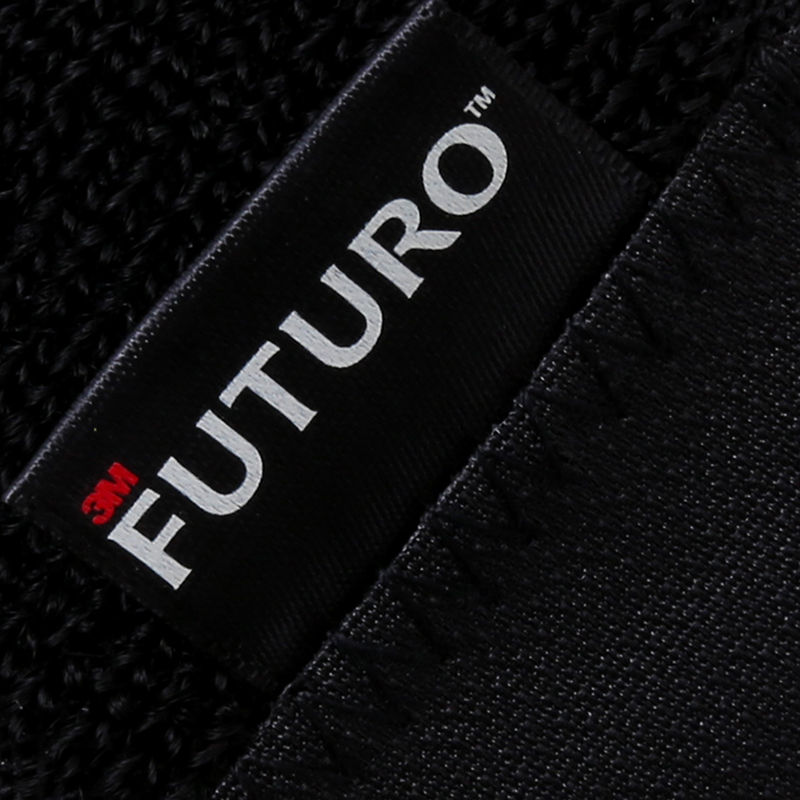3M: (78, 458, 141, 529)
